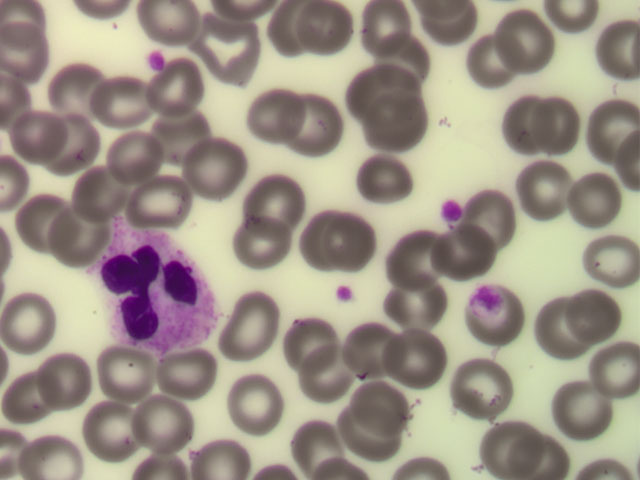Platelets: (437, 195, 462, 218), (146, 49, 166, 70), (334, 281, 353, 301)
RBC: (52, 63, 105, 117), (98, 74, 151, 128), (153, 62, 206, 116), (151, 105, 204, 159), (110, 128, 163, 182), (70, 158, 123, 212), (52, 211, 105, 265), (18, 197, 71, 251), (50, 115, 103, 169), (6, 108, 59, 162), (136, 176, 189, 230), (194, 138, 247, 192), (252, 90, 305, 144), (286, 98, 339, 152), (197, 26, 250, 80), (361, 3, 414, 57), (376, 31, 429, 85), (348, 62, 401, 116), (373, 97, 426, 151), (354, 153, 407, 207), (329, 216, 382, 270), (296, 219, 349, 273), (240, 224, 293, 278), (248, 180, 301, 234), (228, 294, 281, 348), (164, 348, 217, 402), (98, 347, 151, 401), (44, 354, 97, 408), (3, 370, 56, 424), (5, 290, 58, 344), (28, 426, 81, 480), (79, 400, 132, 454), (143, 401, 196, 455), (223, 376, 276, 430), (197, 426, 250, 480), (296, 426, 349, 480), (335, 408, 388, 462), (358, 379, 411, 433), (306, 356, 359, 410), (284, 316, 337, 370), (349, 322, 402, 376), (388, 328, 441, 382), (392, 281, 445, 335), (393, 229, 446, 283), (440, 222, 493, 276), (470, 187, 523, 241), (521, 163, 574, 217), (568, 169, 621, 223), (585, 226, 638, 280), (569, 288, 622, 342), (538, 302, 591, 356), (587, 348, 640, 402), (552, 383, 605, 437), (482, 425, 535, 479), (459, 363, 512, 417), (457, 35, 510, 89), (498, 16, 551, 70), (541, 97, 594, 151), (500, 97, 553, 151), (587, 103, 640, 157), (587, 18, 640, 72), (144, 1, 197, 54), (305, 1, 358, 54), (1, 21, 53, 75)
WBC: (91, 223, 221, 348)
